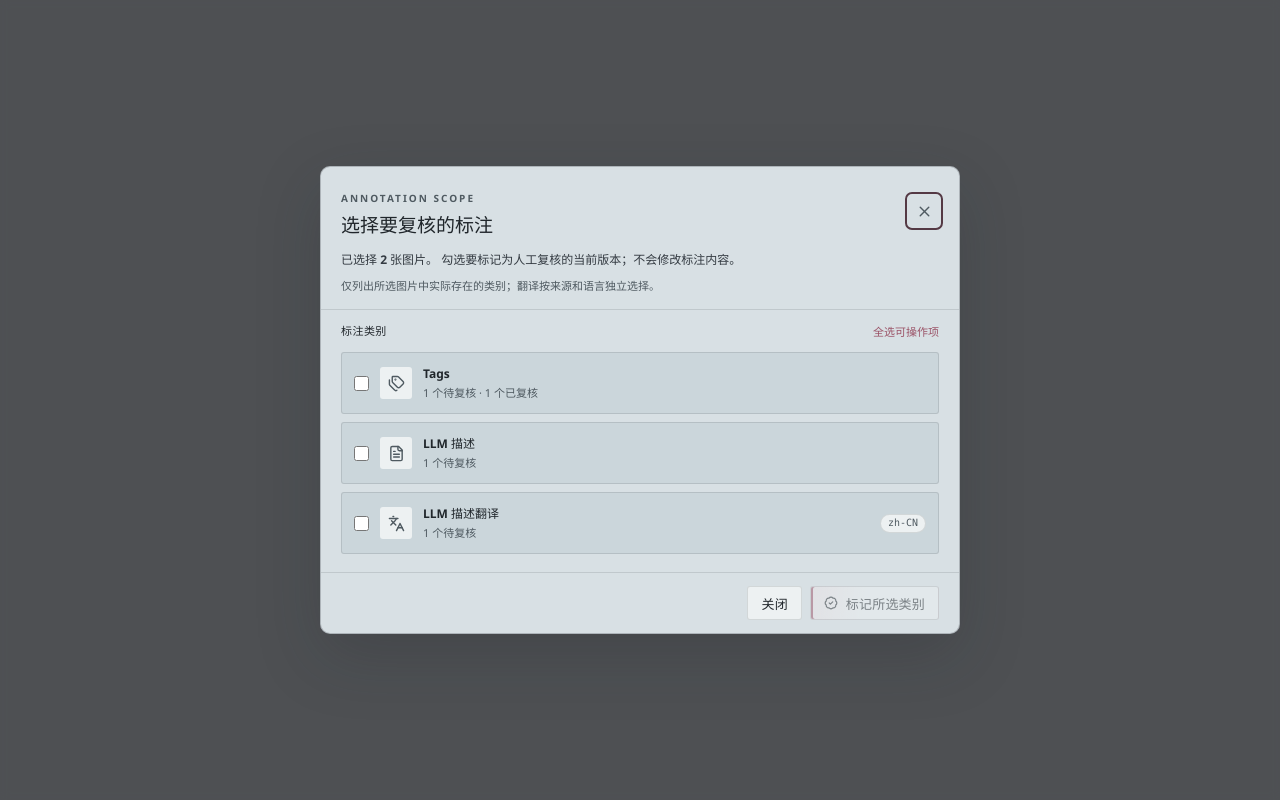
annotation bulk action dialog › submits all selected review channels in one request
Click the checkbox labelled "Tags 1 个待复核 · 1 个已复核" at (362, 383), box [354,376,369,391]
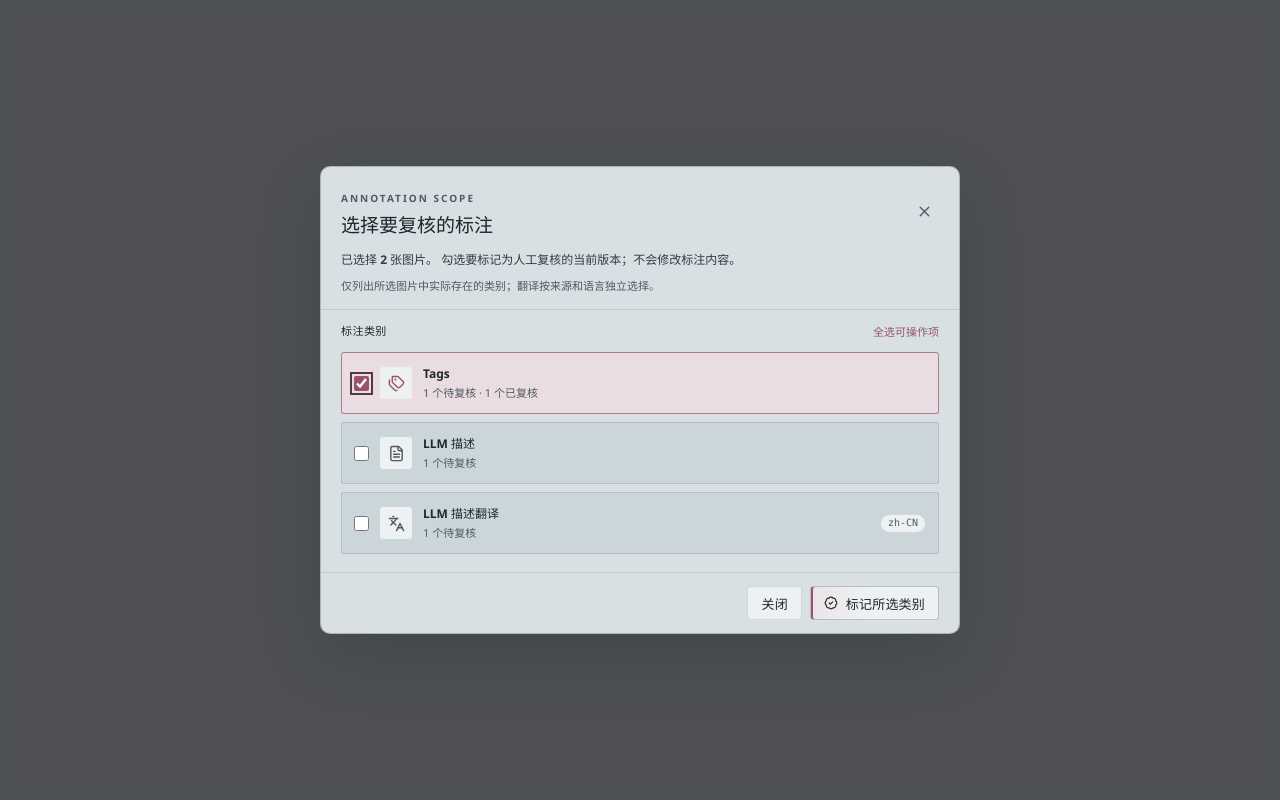
Click the checkbox named "LLM 描述1 个待复核" at (362, 453), box [354,446,369,461]
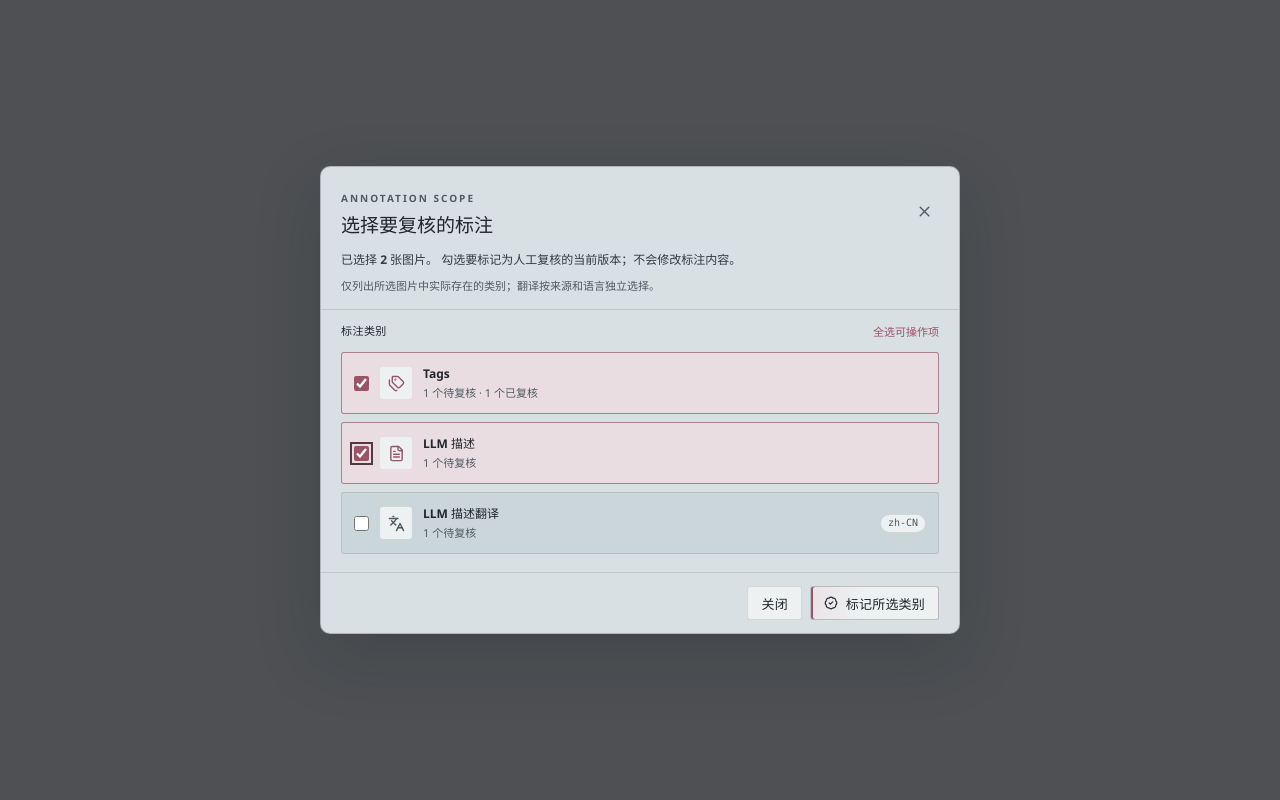
Click the button "标记所选类别" at (874, 603), box [810,586,939,620]
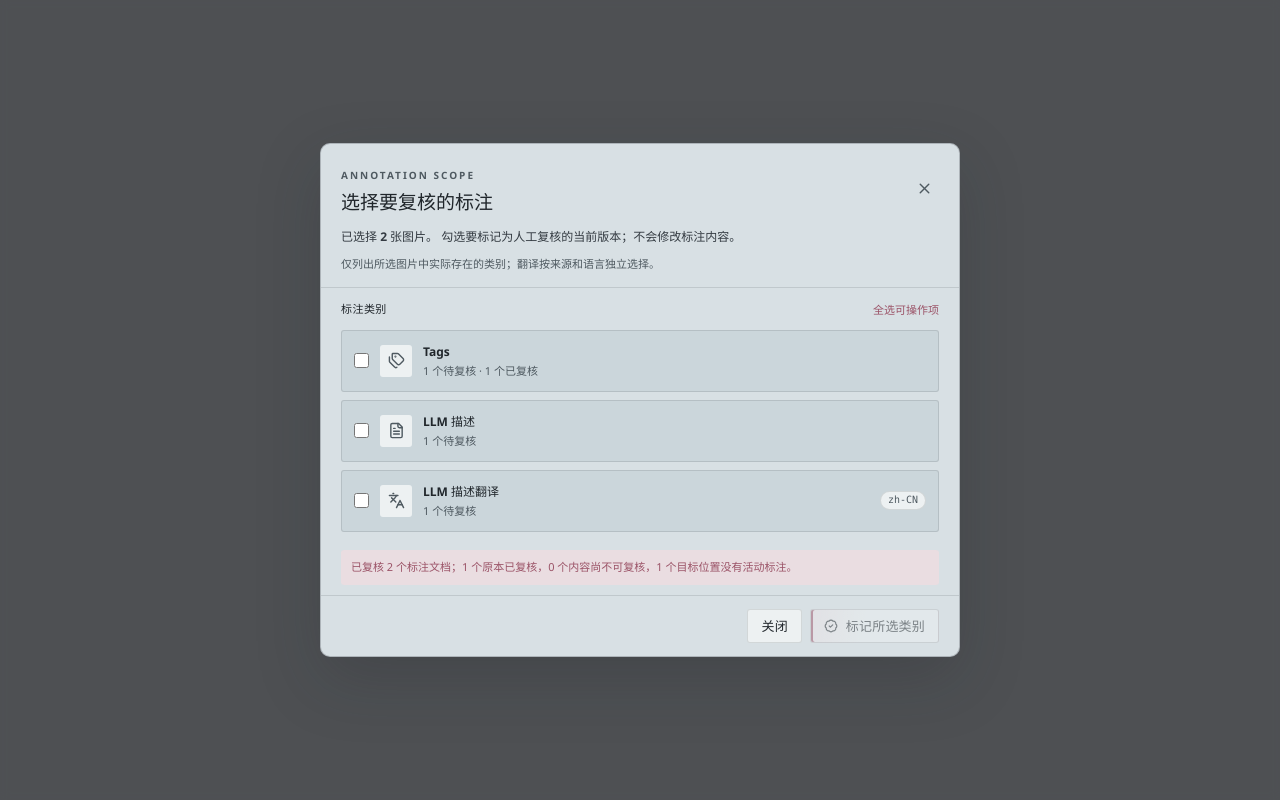
Expected: the text "已复核 2 个标注文档；1 个原本已复核，0 个内容尚不可复核，1 个目标位置没有活动标注。" is shown, [341,550,939,585]
